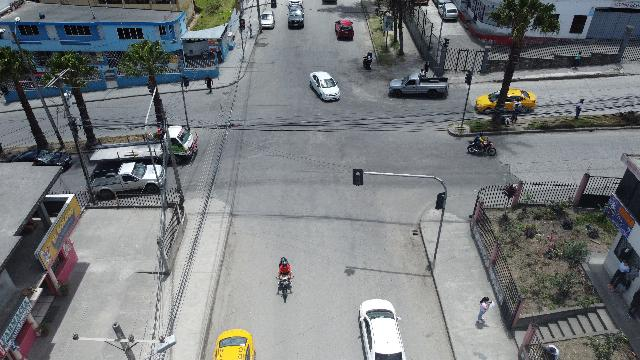Vehiculo: (358, 299, 406, 359), (86, 162, 166, 198), (474, 89, 536, 115), (389, 72, 449, 98), (160, 125, 198, 163), (213, 329, 255, 359), (310, 72, 340, 100), (334, 19, 354, 39), (438, 2, 458, 20), (288, 6, 304, 28), (261, 11, 275, 29), (288, 0, 302, 8)
